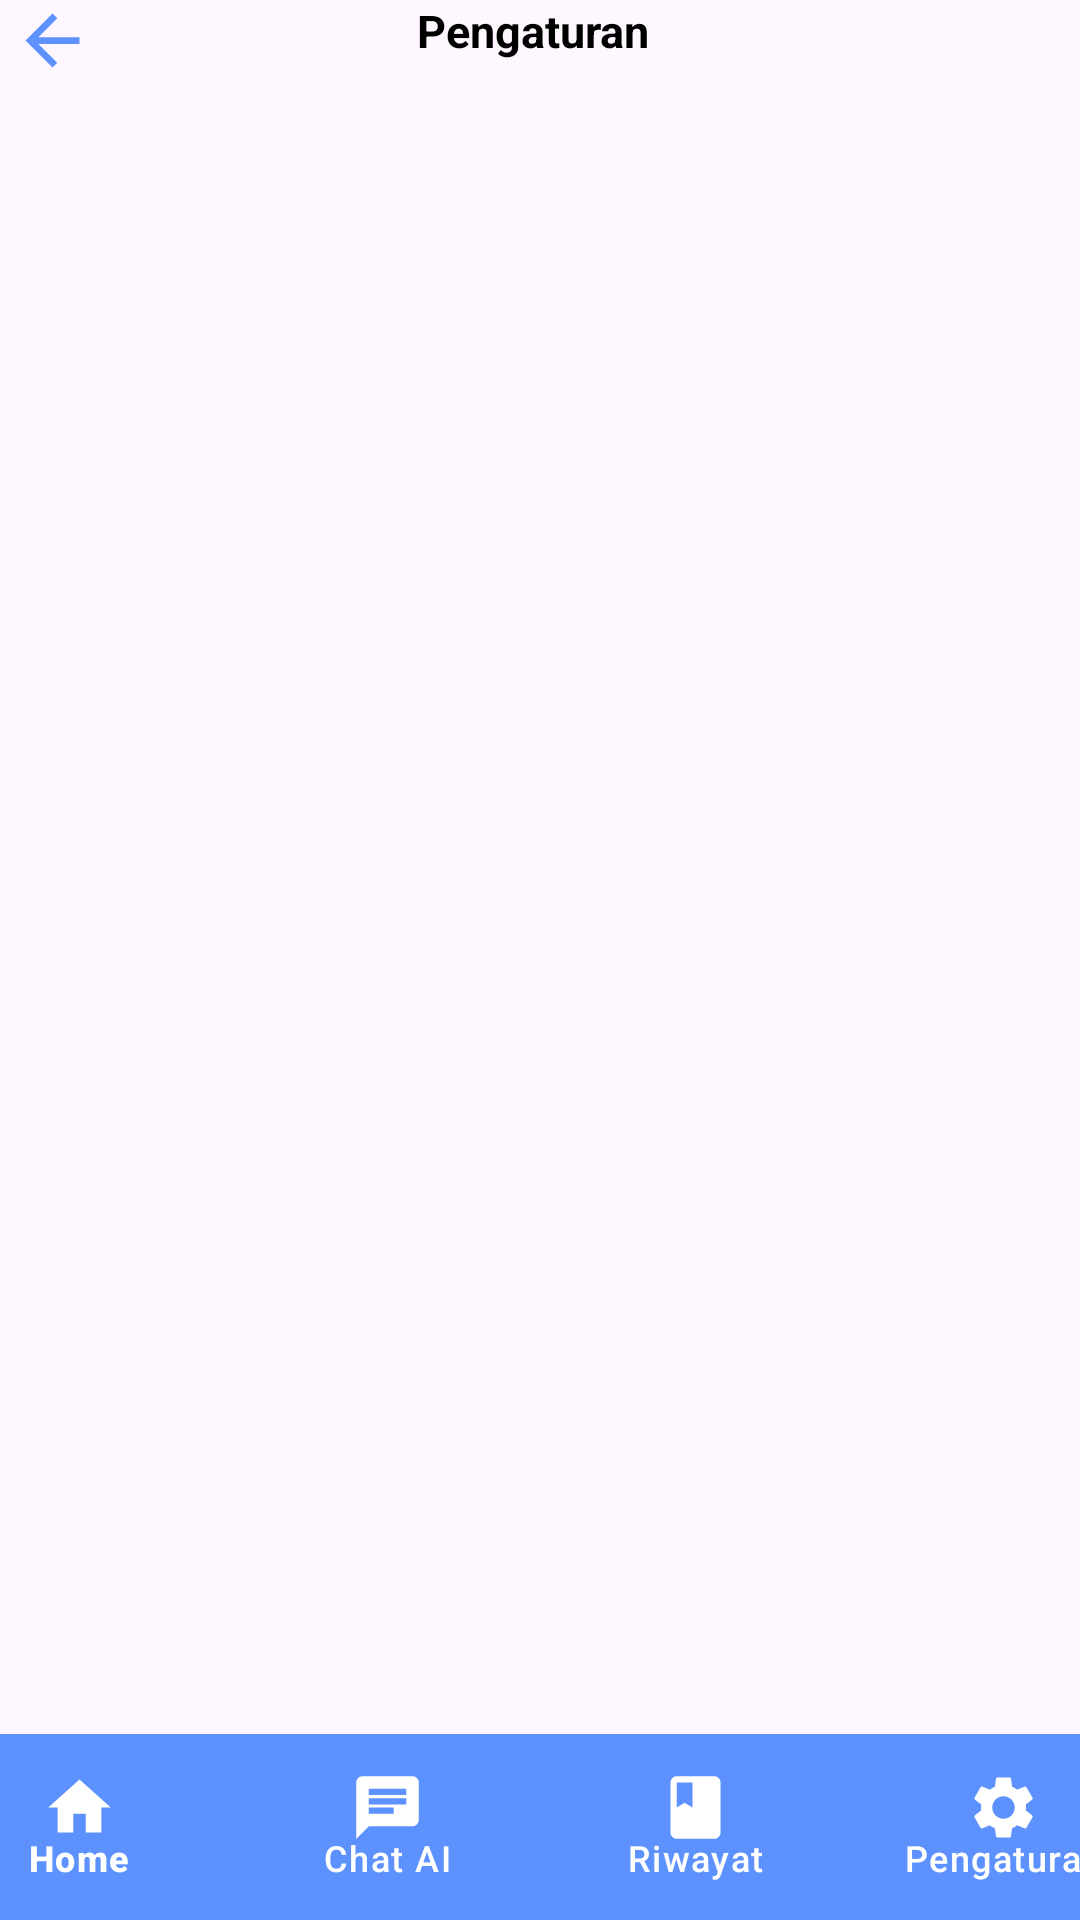

Icons on this 1080 × 1920 Android screen, each with its box as (x1,y1,x2,y2):
back: (25,13,80,68)
